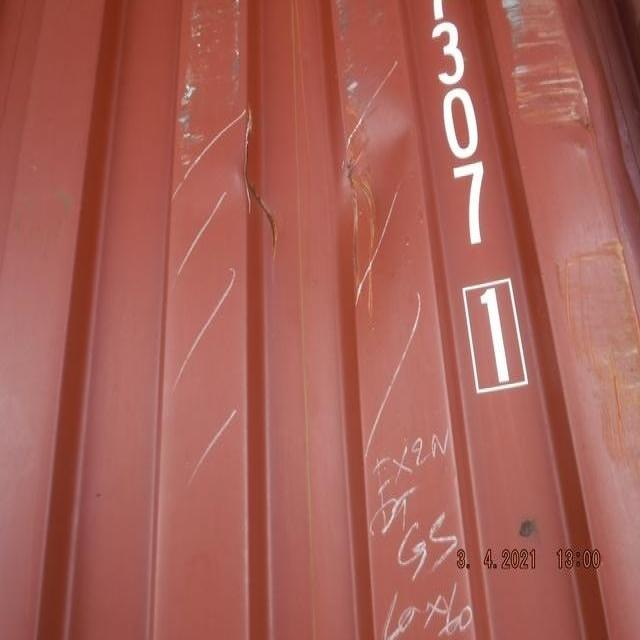dent: (320, 81, 446, 281)
